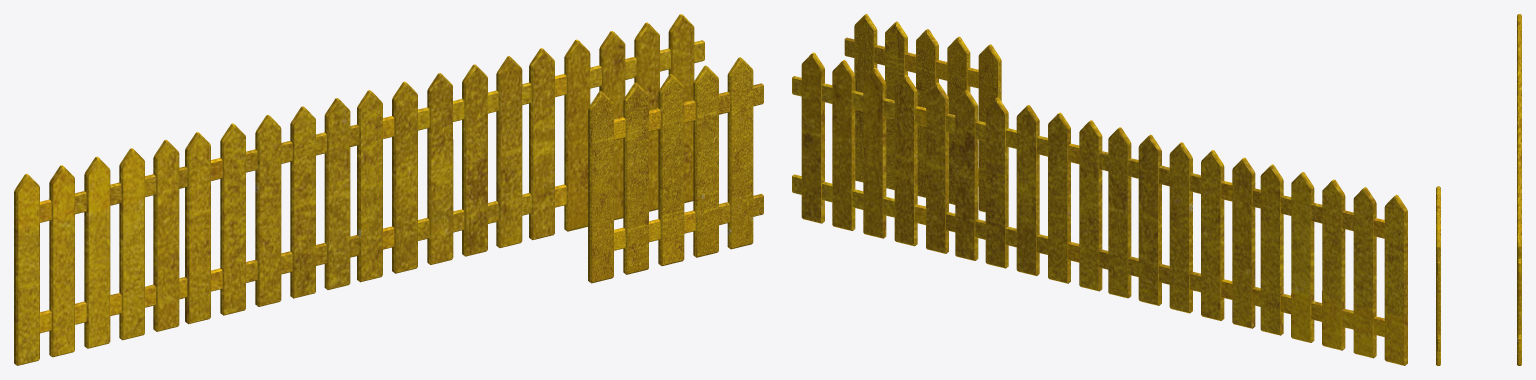
File: kawaiine_barriere.fbx
3 renders of one model, left to right at view 1: azimuth 30°, elevation 25°; view 2: azimuth 150°, elevation 25°; view 3: azimuth 270°, elevation 25°, orthographic. The views are drawn at different scales.
Visible parts, largest first — view 1: barr_11, barr_10; view 2: barr_11, barr_10; view 3: barr_11, barr_10.
Boxes of the visible parts, x1,y1,x2,y2 form: barr_11: (14, 14, 704, 365); barr_10: (588, 57, 763, 283); barr_11: (792, 52, 1407, 365); barr_10: (844, 14, 1001, 212); barr_11: (1517, 14, 1521, 365); barr_10: (1436, 186, 1440, 365).
Size of the model in its own units: 218 by 56.87 by 34.29.
Materials: 1 (1 with a texture image).
